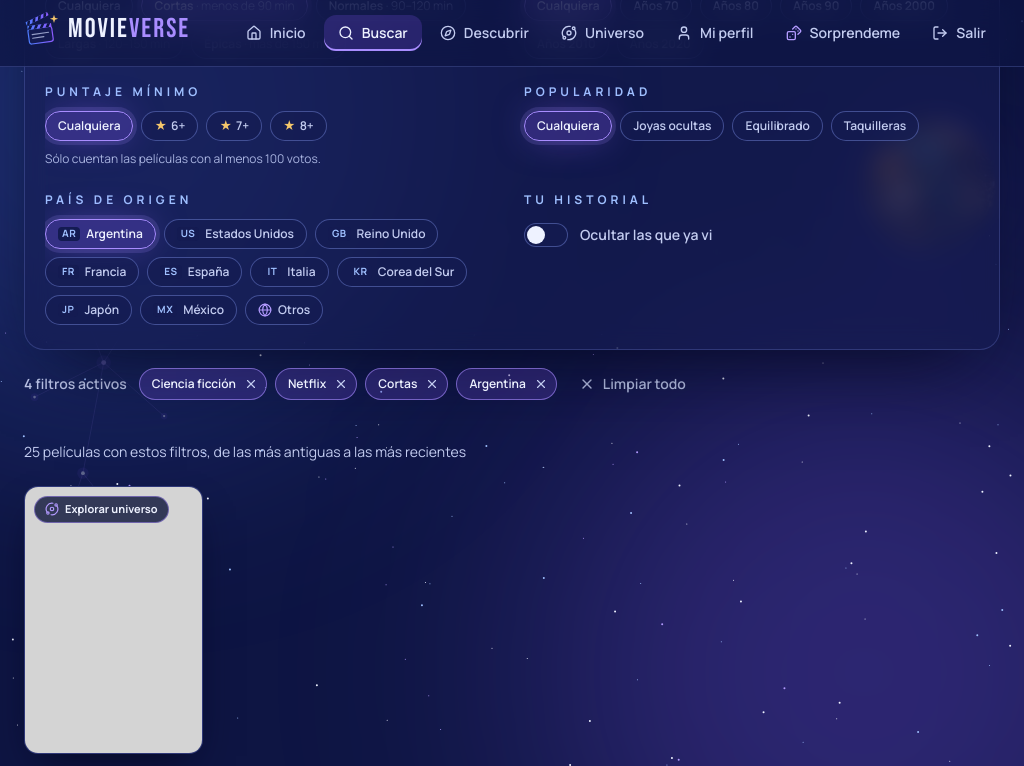
Test: Buscar with filters › shows the active filters as tags with ✕, a counter and «Limpiar todo»
(page scrolled)
Expected: the text "4 filtros activos" is shown, [24,374,127,394]
Expected: the text "Netflix" is shown, [275,368,357,400]
Click the button named "Quitar Netflix" at (341, 384), box [330,373,352,395]
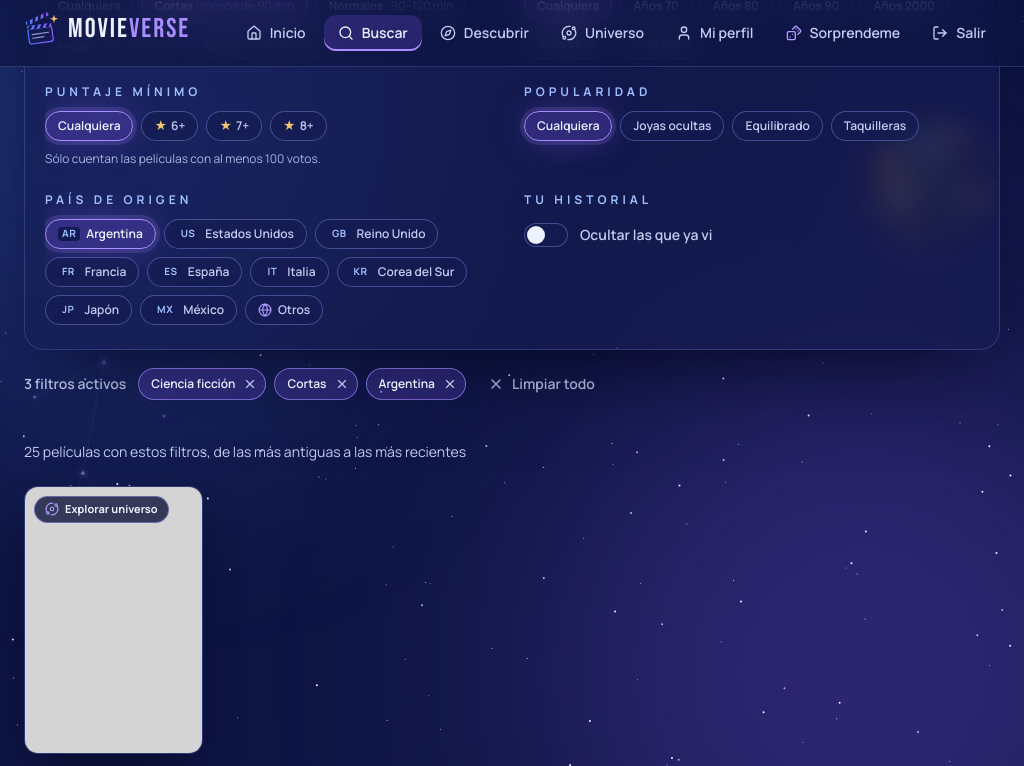
Result: the text "3 filtros activos" is shown at [24,374,126,394]
Click the button "Limpiar todo" at (541, 384), box [474,366,609,402]
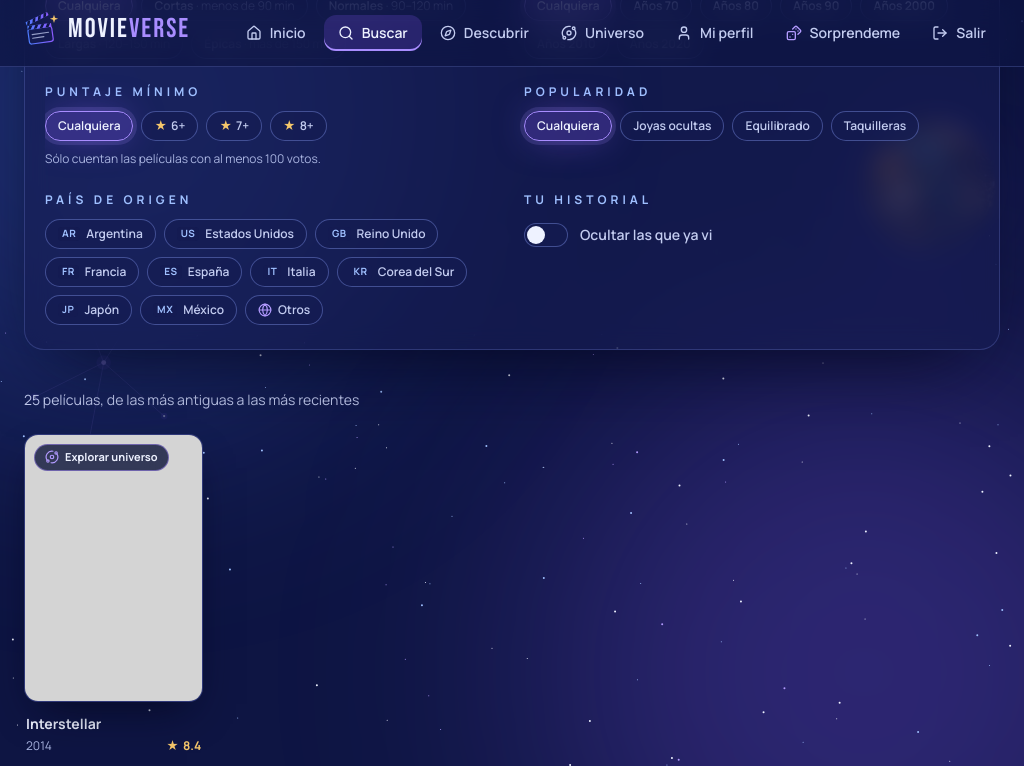
Result: the text "filtros activos" is gone
Result: the text "25 películas, de las más antiguas a las más recientes" is shown at [24,390,359,409]
